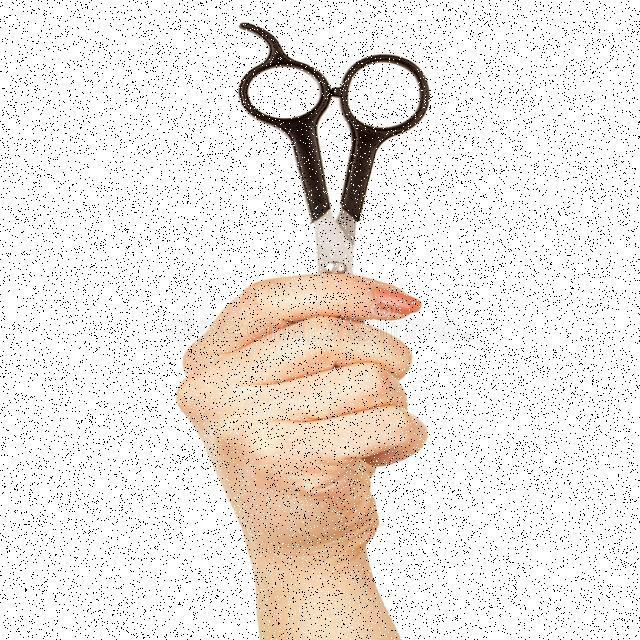scissors: (225, 11, 435, 458)
